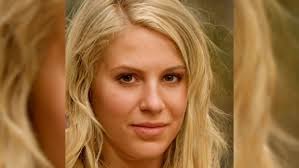No-Glasses: (108, 66, 188, 91)
